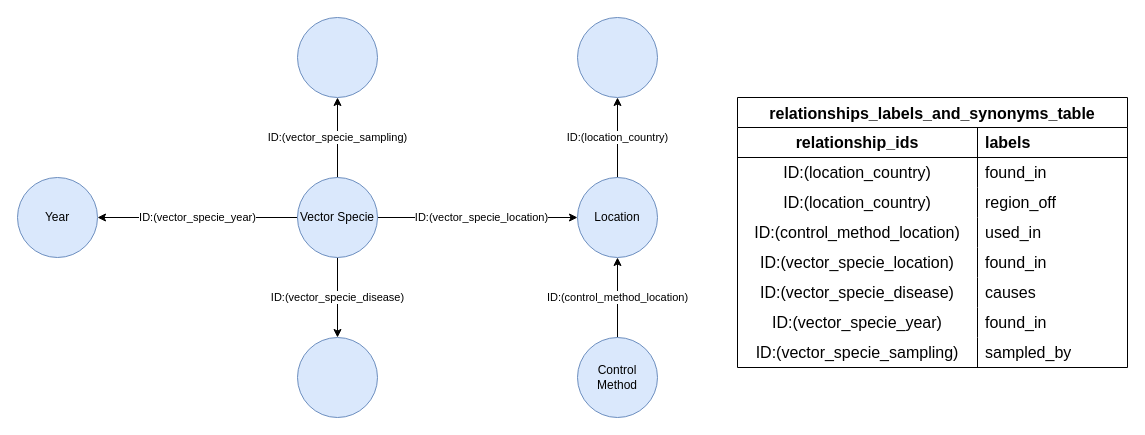
Image size: 1145x435. Some labels were removed from this diagram. Each missing label, with the centre of its shape:
Country: [617,57]
Disease: [337,377]
Sampling Method: [337,57]
